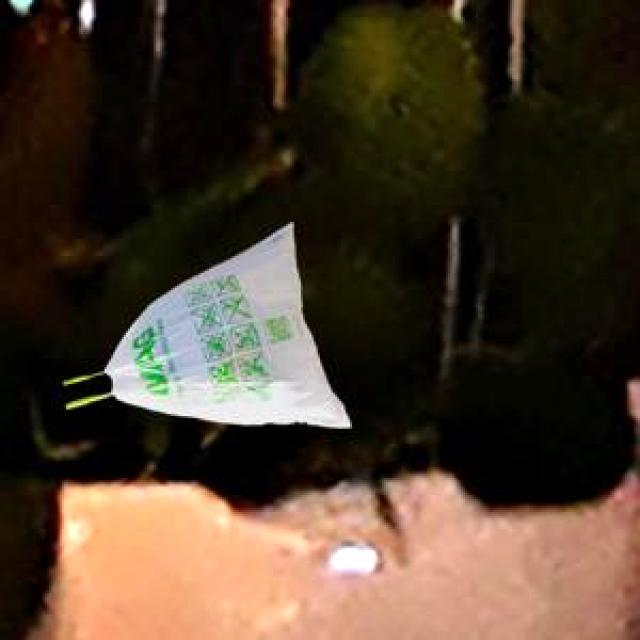Plastic_Bag: (63, 221, 347, 423)
